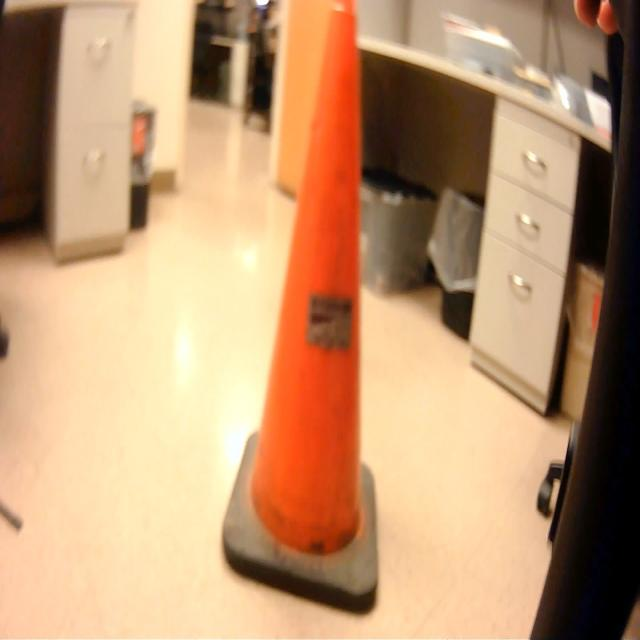traffic cone: (219, 1, 389, 624)
